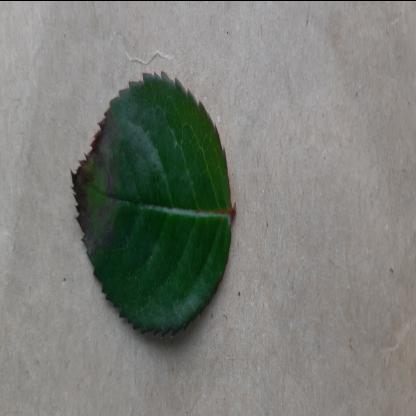downy-mildew: (71, 62, 233, 342)
